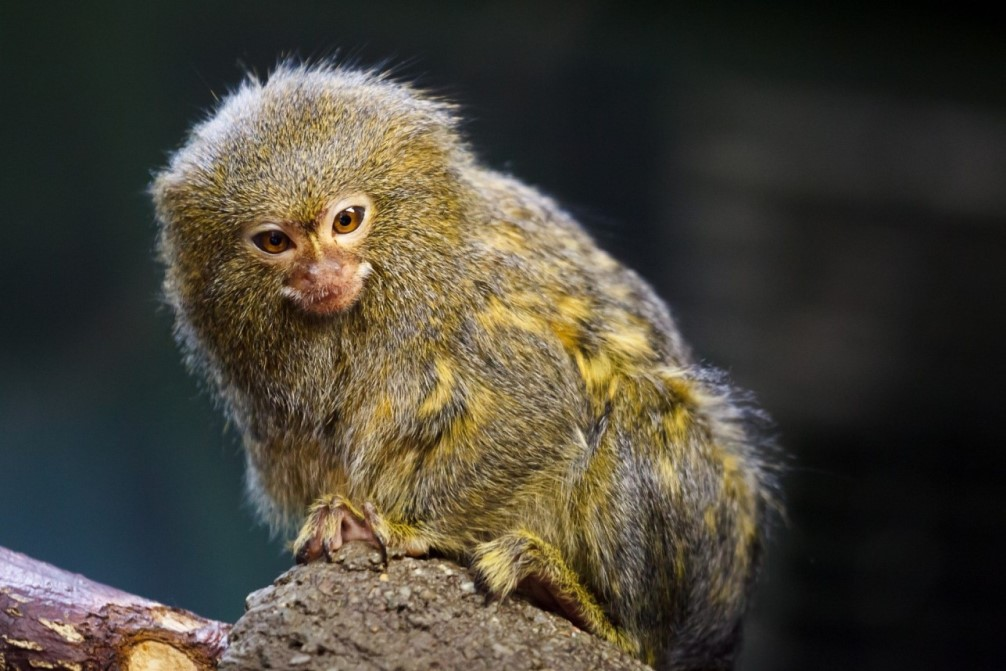PygmyMarmoset: (132, 88, 778, 636)
